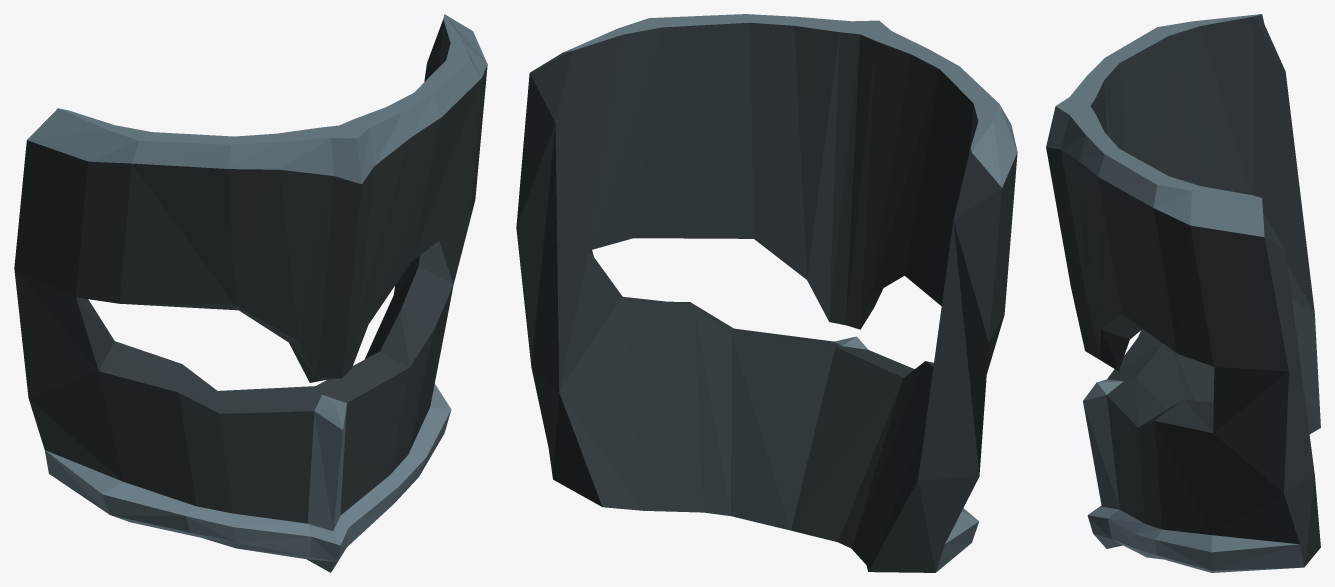
Rendered from character_knightHelmetVisor.obj.
3 renders of one model, left to right at view 1: azimuth 30°, elevation 25°; view 2: azimuth 150°, elevation 25°; view 3: azimuth 270°, elevation 25°, orthographic. The views are drawn at different scales.
Visible parts, largest first — view 1: character_knightHelmetVisor_Cylinder.000; view 2: character_knightHelmetVisor_Cylinder.000; view 3: character_knightHelmetVisor_Cylinder.000.
Boxes of the visible parts, bbox=[...] form: character_knightHelmetVisor_Cylinder.000: bbox=[14, 14, 487, 572]; character_knightHelmetVisor_Cylinder.000: bbox=[516, 14, 1017, 572]; character_knightHelmetVisor_Cylinder.000: bbox=[1046, 14, 1320, 572].
Bounding box in the file's own units: 1.16 × 1.13 × 0.6349.
